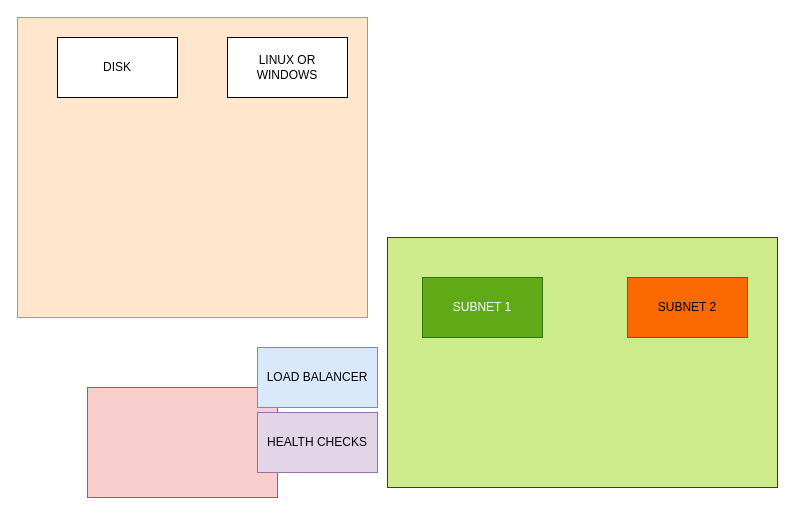
This 795x515 diagram has some shape labels left out. Here are the shapes that lost their labels. From the top down, the box of each, then its label:
(16, 16, 368, 318): Instance template
(386, 236, 778, 488): NETWORK
(86, 386, 278, 498): MANAGED GROUP
